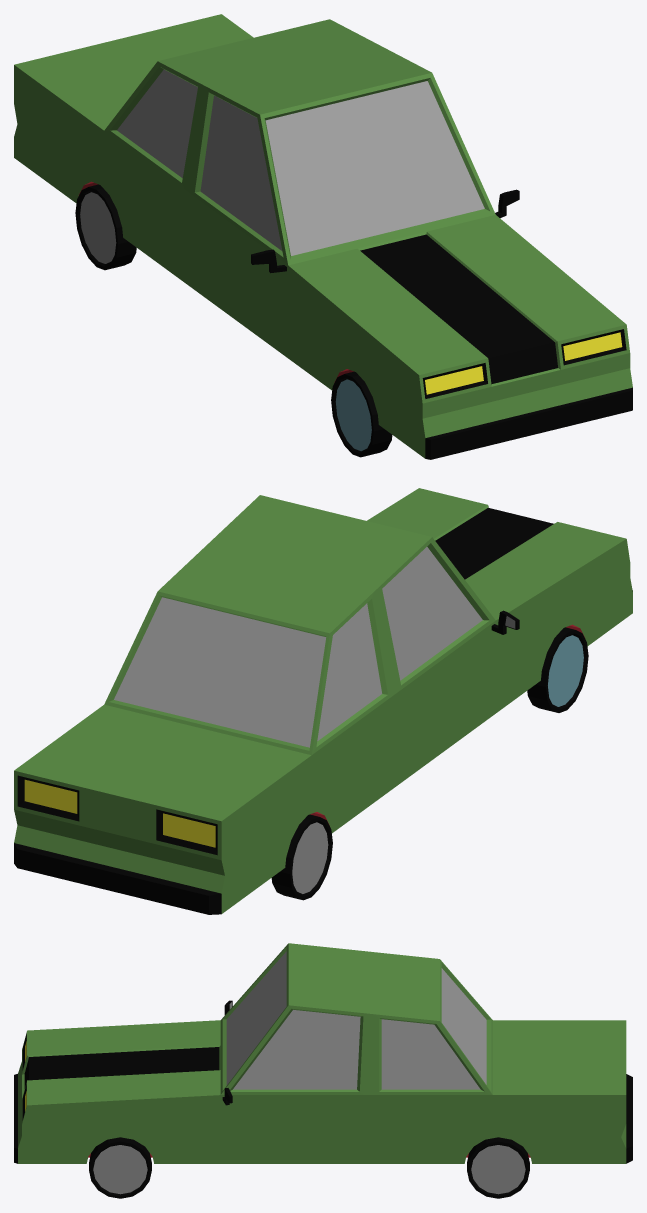
Rendered from sedan car 3.fbx.
The picture shows the model from 3 angles, top to bottom: view 1: azimuth 30°, elevation 25°; view 2: azimuth 150°, elevation 25°; view 3: azimuth 270°, elevation 25°; orthographic projection. The views are drawn at different scales.
Parts seen in each view (by area): view 1: Sedan Car Body.003, Wheel RR.013, Wheel FR.015; view 2: Sedan Car Body.003, Wheel FR.015, Wheel RR.013; view 3: Sedan Car Body.003, Wheel FL.015, Wheel RL.013.
Boxes of the visible parts, x1,y1,x2,y2 form: Sedan Car Body.003: [14, 14, 632, 459]; Wheel RR.013: [75, 184, 136, 270]; Wheel FR.015: [331, 371, 392, 457]; Sedan Car Body.003: [14, 488, 632, 914]; Wheel FR.015: [527, 627, 588, 712]; Wheel RR.013: [271, 814, 332, 900]; Sedan Car Body.003: [14, 943, 632, 1163]; Wheel FL.015: [89, 1137, 151, 1198]; Wheel RL.013: [467, 1137, 529, 1198].
Bounding box in the file's own units: 1.64 × 1.47 × 4.44.
